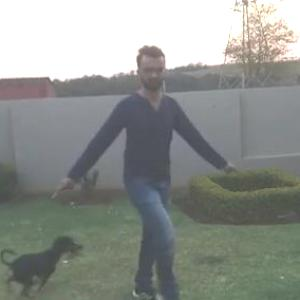land: (80, 38, 220, 299)
